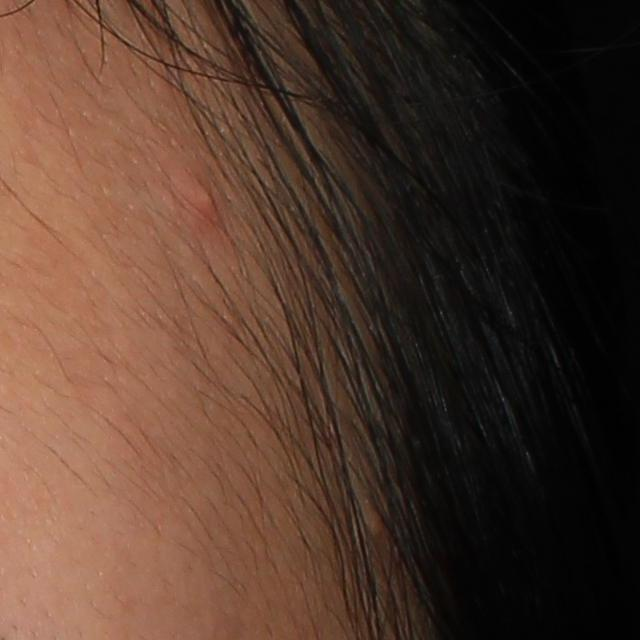papule: (189, 177, 225, 223)
